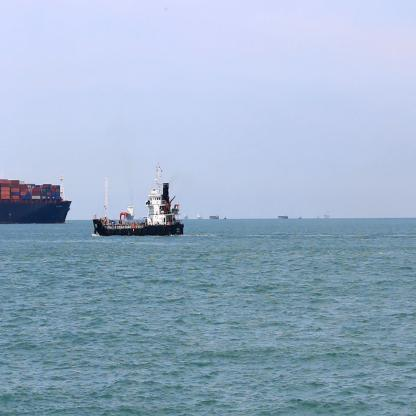Container Ship: (91, 160, 187, 239), (1, 166, 73, 228), (277, 212, 290, 224), (207, 212, 220, 223), (323, 209, 332, 223), (196, 210, 204, 222)
